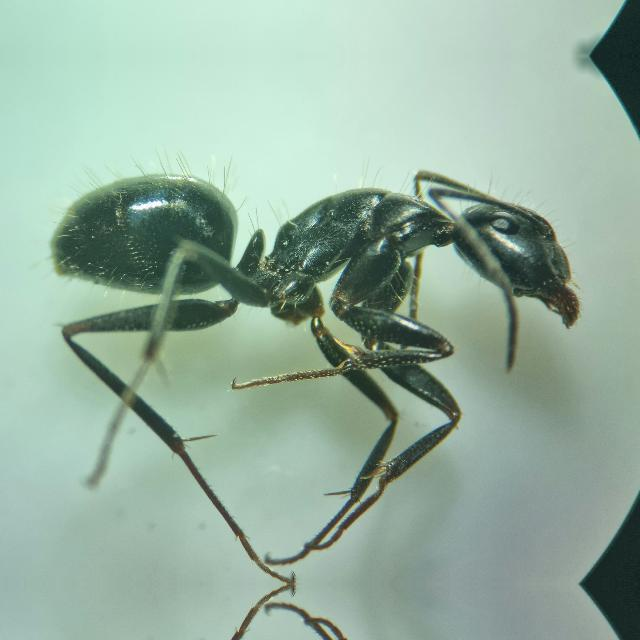Camponotus: (4, 124, 616, 470)
